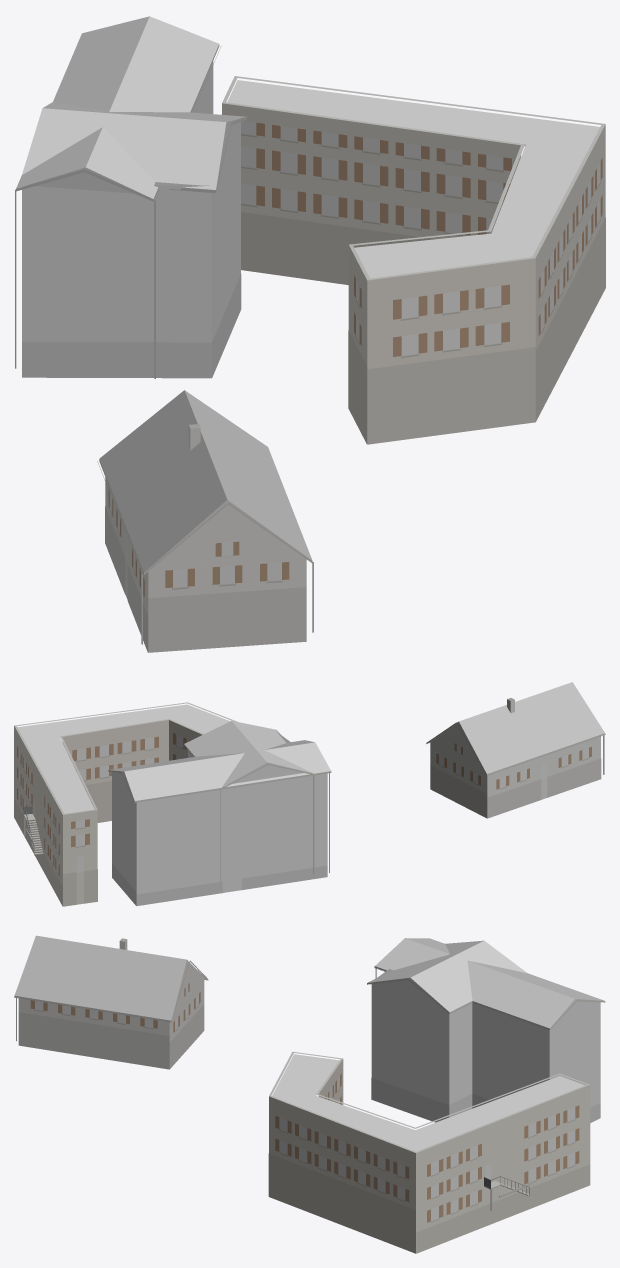
3 renders of one model, top to bottom at view 1: azimuth 30°, elevation 25°; view 2: azimuth 150°, elevation 25°; view 3: azimuth 270°, elevation 25°, orthographic. The views are drawn at different scales.
Visible parts, largest first — view 1: bld; view 2: bld; view 3: bld.
Boxes of the visible parts, x1=… form: bld: x1=15, y1=16, x2=605, y2=652; bld: x1=14, y1=682, x2=605, y2=906; bld: x1=14, y1=935, x2=605, y2=1253.
Bounding box in the file's own units: 58.76 × 19.39 × 64.54.
